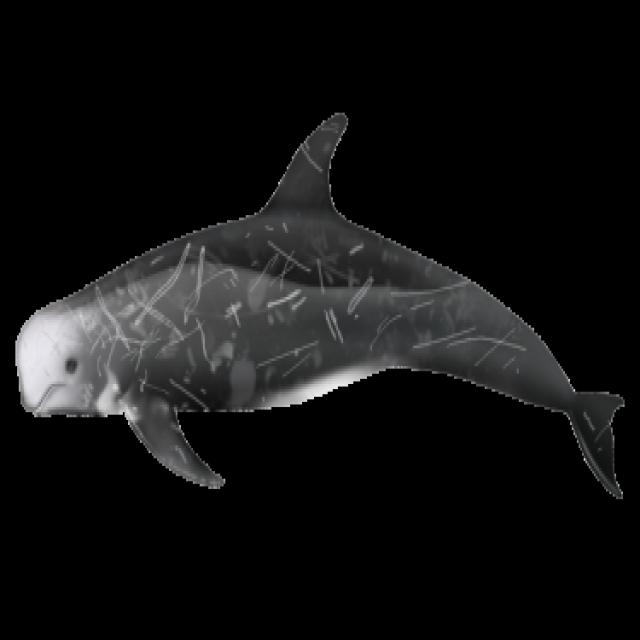penguin: (12, 113, 624, 501)
